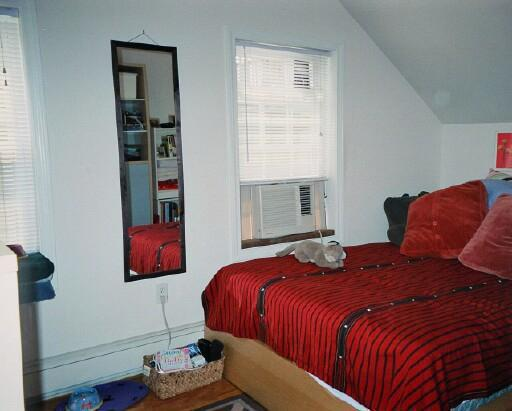Cama: (210, 171, 503, 405)
Ventana: (233, 38, 340, 240)
